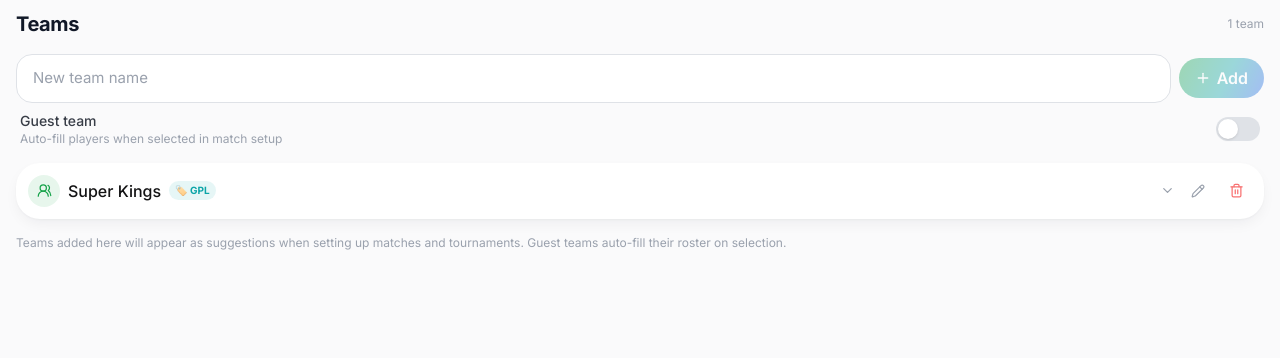
Teams — auction team roster is restricted to sold players › shows only sold players in roster for auction-sourced team
Step 1. Click the text "Super Kings" → (115,190), box x1=68 y1=178 x2=161 y2=202
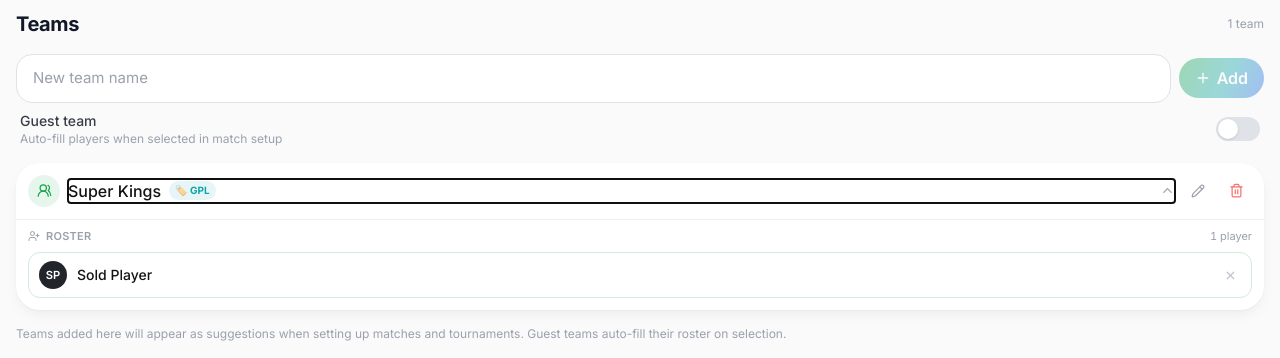
Expected: the text "Roster" is shown, x1=28 y1=228 x2=92 y2=244
Expected: the text "Sold Player" is shown, x1=77 y1=266 x2=152 y2=283
